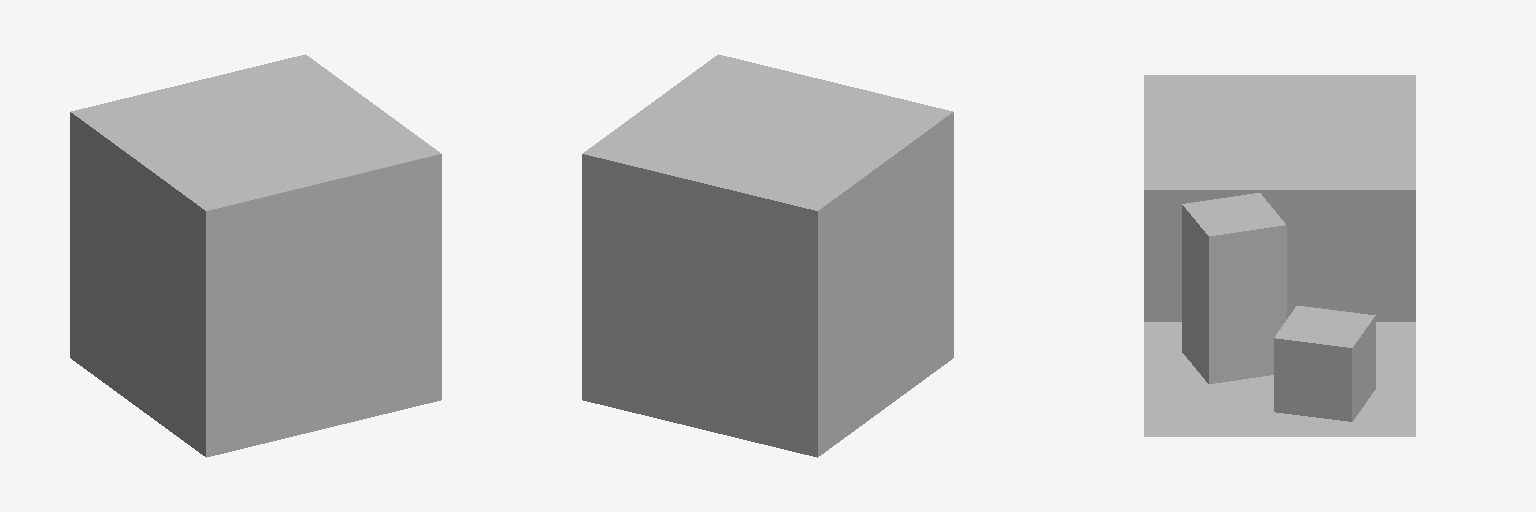
Rendered from classic-cornell-box.obj.
3 renders of one model, left to right at view 1: azimuth 30°, elevation 25°; view 2: azimuth 150°, elevation 25°; view 3: azimuth 270°, elevation 25°, orthographic.
Parts seen in each view (by area): view 1: left, back, top; view 2: right, back, top; view 3: top, back, tall, down, short.
Part boxes in pixels (x1,y1,x2,y2): left: (206, 154, 441, 457); back: (70, 112, 205, 456); top: (71, 54, 440, 210); right: (582, 154, 817, 457); back: (818, 112, 953, 456); top: (583, 54, 952, 210); top: (1144, 75, 1415, 189); back: (1144, 190, 1415, 321); tall: (1182, 193, 1286, 383); down: (1144, 322, 1415, 436); short: (1274, 306, 1375, 421).
Size of the model in its own units: 2 by 2 by 2.